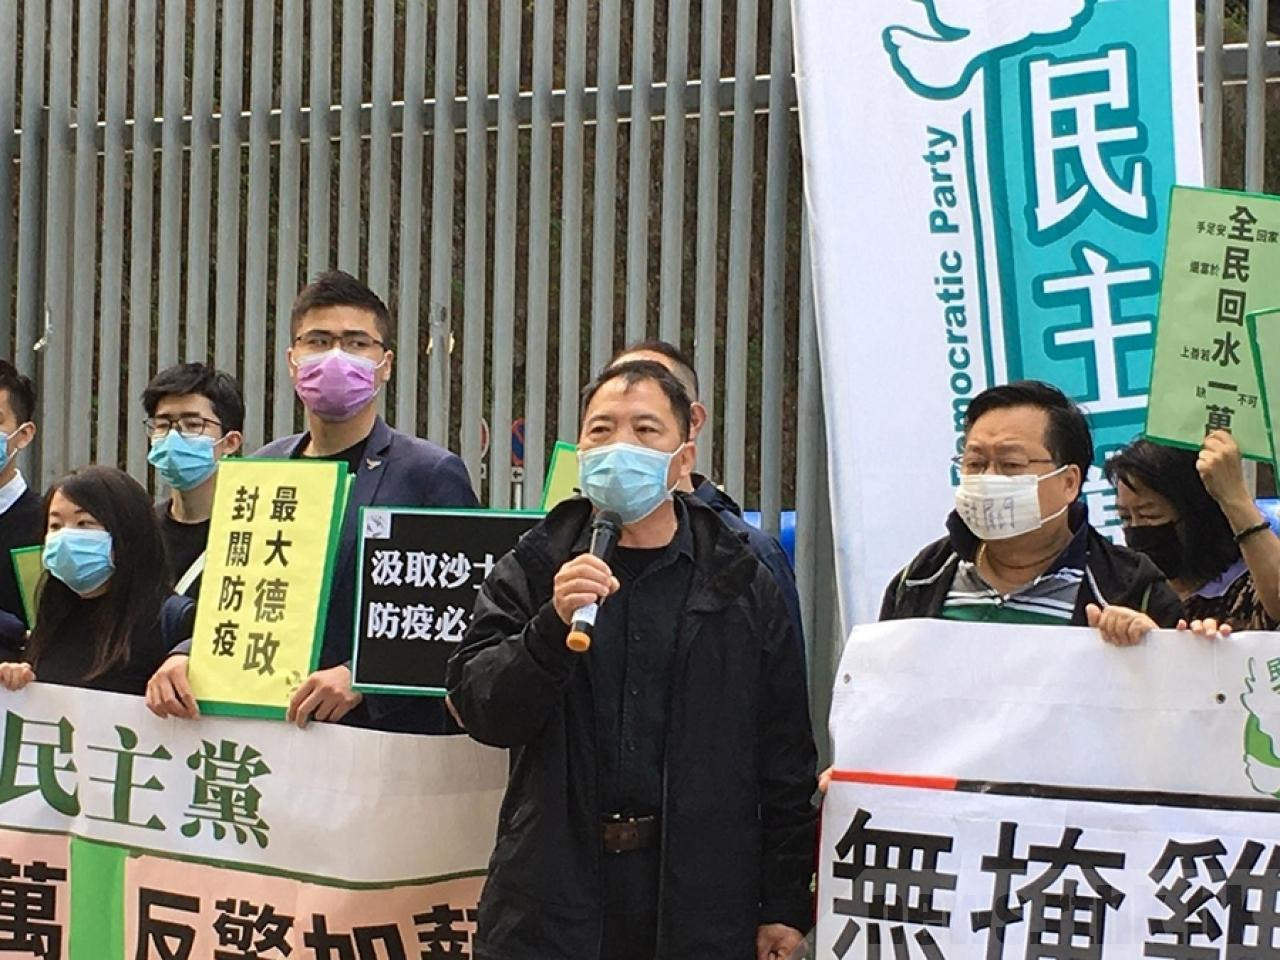mask: (575, 406, 679, 527), (958, 429, 1060, 541), (292, 314, 381, 421), (145, 401, 222, 489), (1111, 491, 1185, 578), (45, 504, 111, 597)
